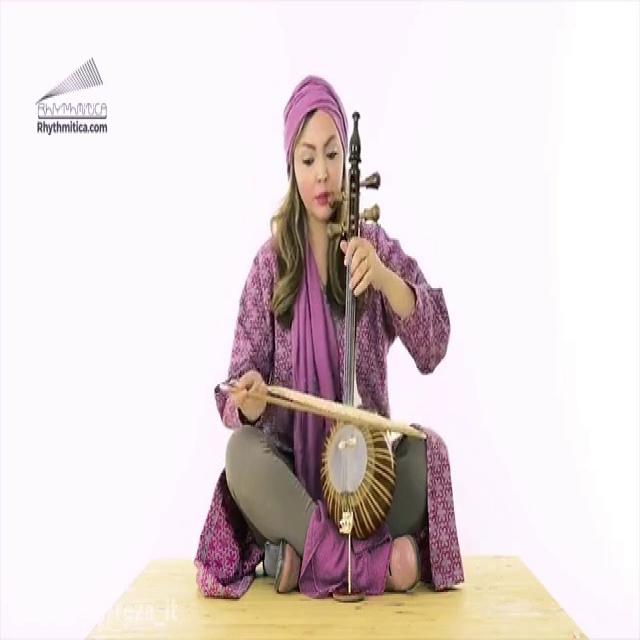Kamanche: (314, 81, 401, 553)
